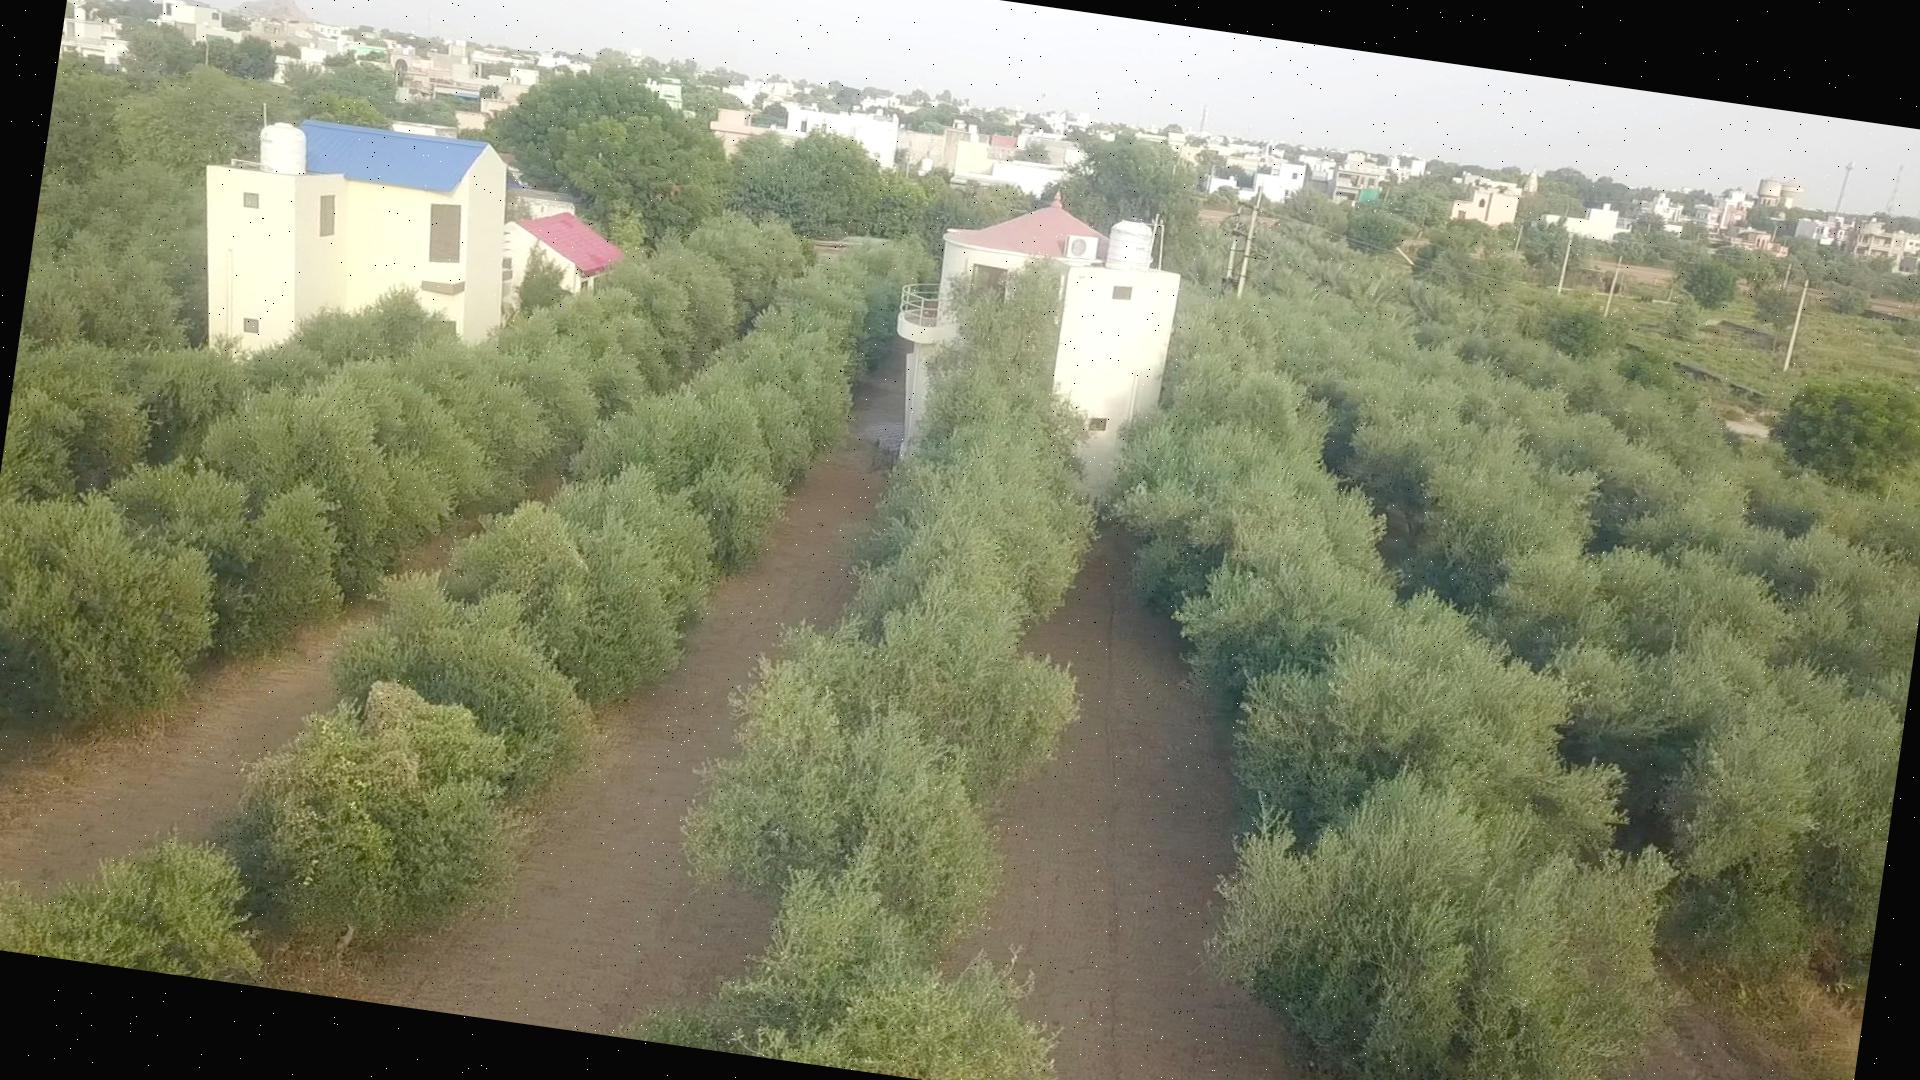canopy: (0, 261, 865, 980), (1259, 285, 1903, 959), (1117, 298, 1665, 1080), (0, 214, 810, 732), (624, 266, 1091, 1080)
road: (303, 446, 882, 1033), (951, 530, 1304, 1080), (0, 625, 338, 887)
